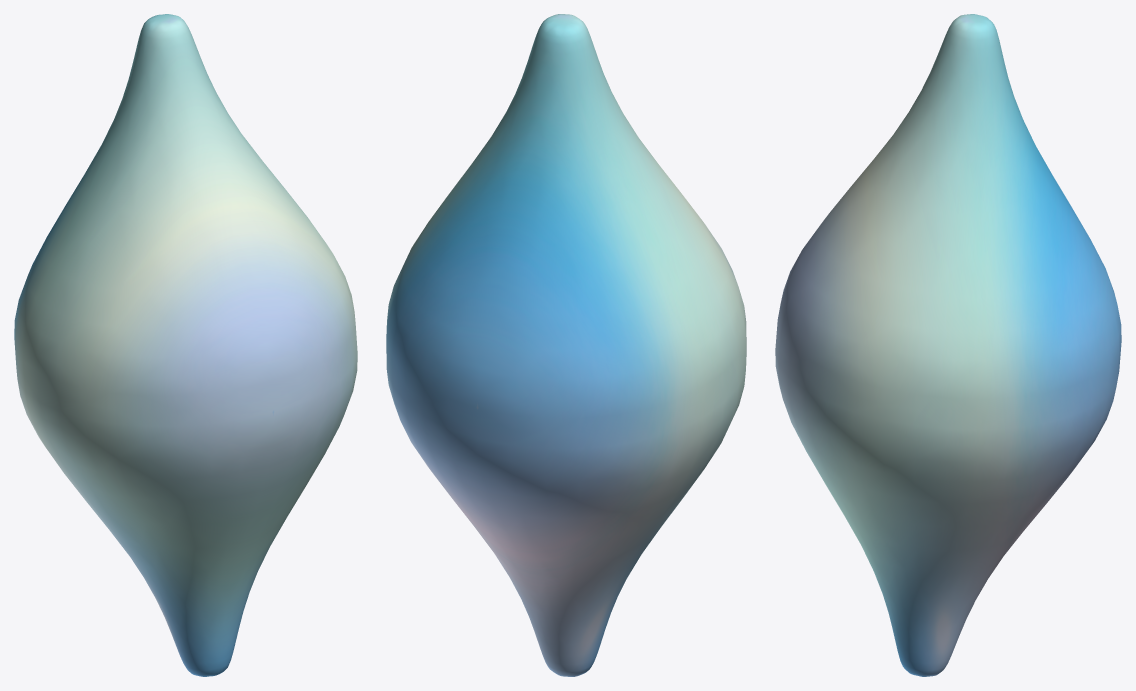
File: focus.glb
3 renders of one model, left to right at view 1: azimuth 30°, elevation 25°; view 2: azimuth 150°, elevation 25°; view 3: azimuth 270°, elevation 25°, orthographic. The views are drawn at different scales.
Parts seen in each view (by area): view 1: focus; view 2: focus; view 3: focus.
Part boxes in pixels (bbox=[...]): focus: bbox=[14, 14, 357, 676]; focus: bbox=[386, 14, 746, 676]; focus: bbox=[775, 14, 1121, 676].
Bounding box in the file's own units: 234 × 482 × 234.
Materials: 1 (1 with a texture image).
